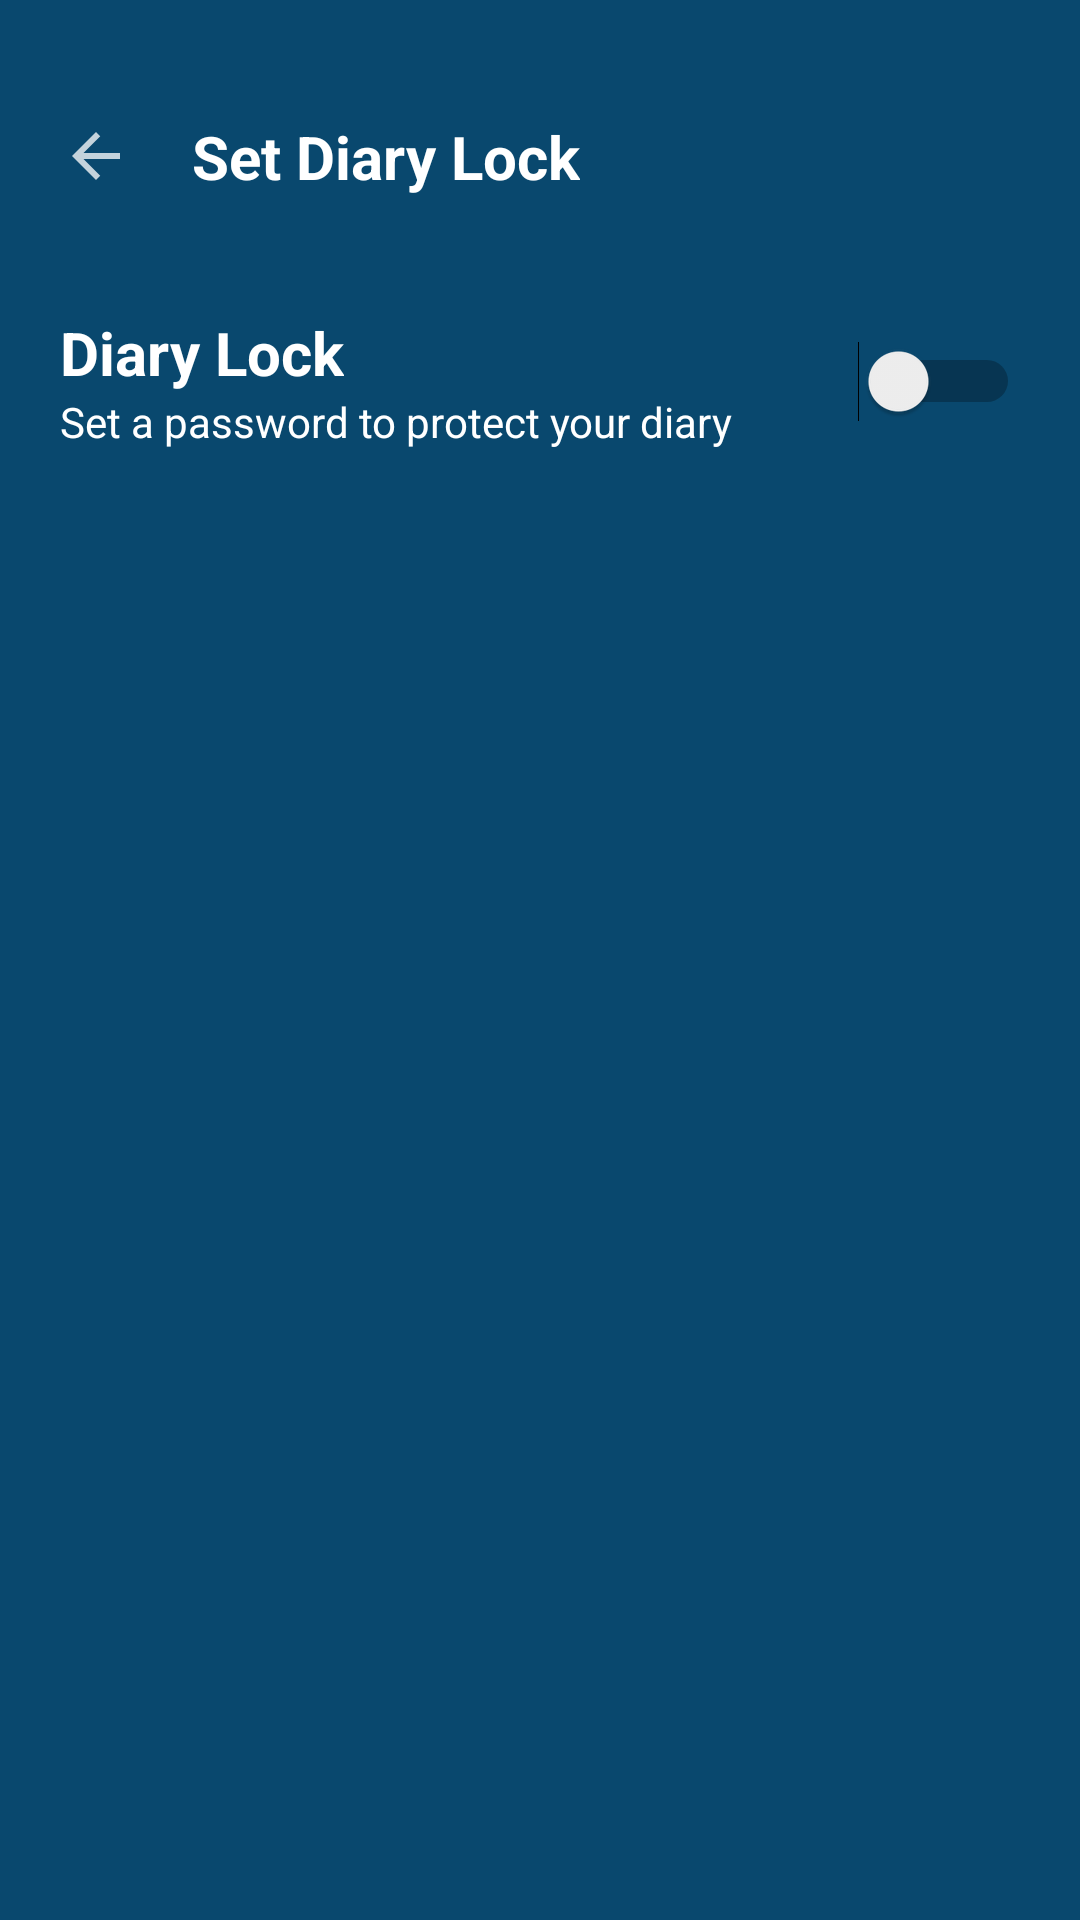

Icons on this 1080 x 1920 Android screen, each with its box as (x1, y1, x2, y2):
arrow back: (72, 132, 120, 180)
